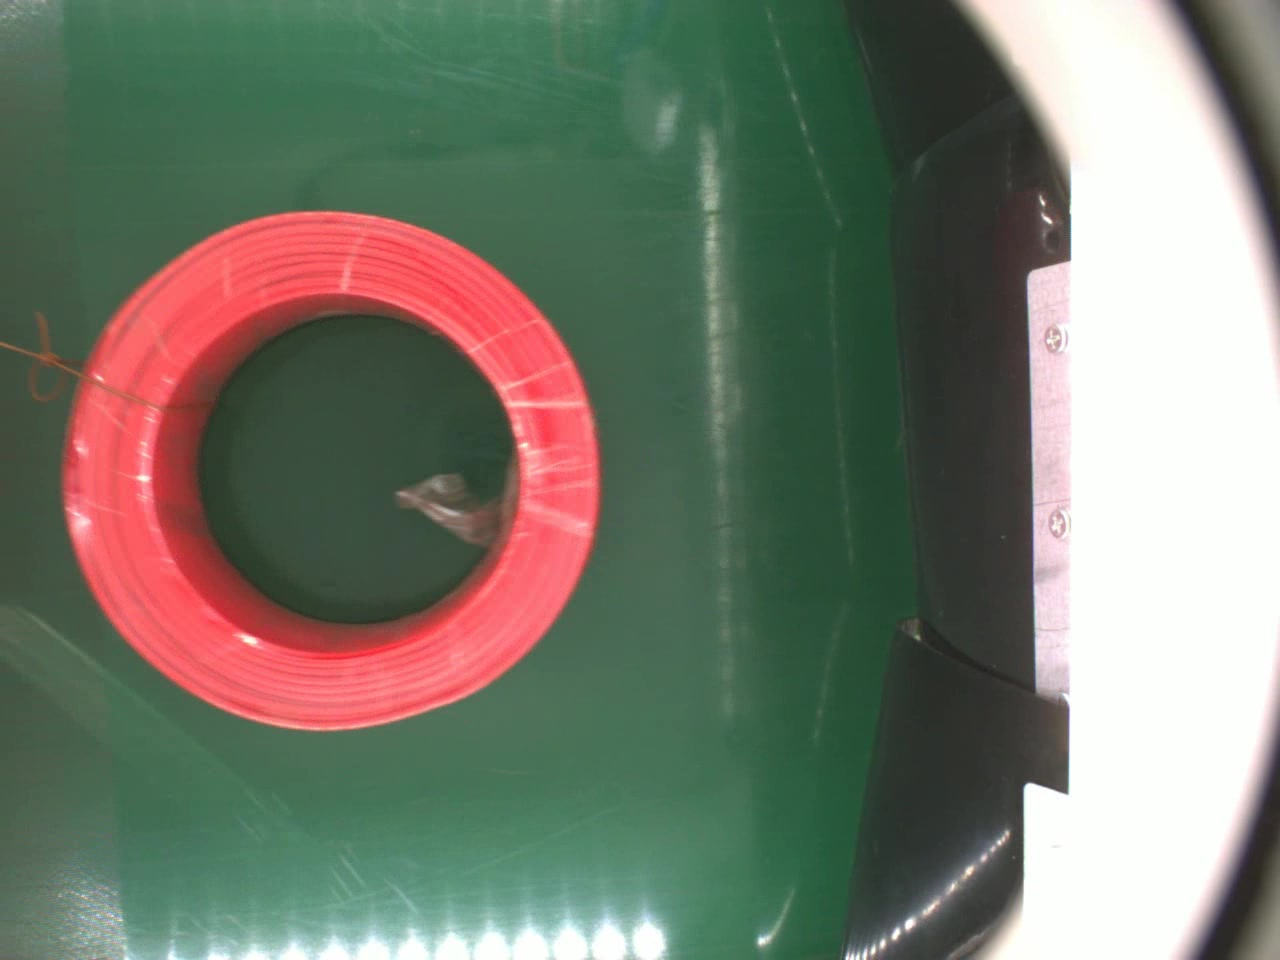red: (56, 206, 602, 734)
